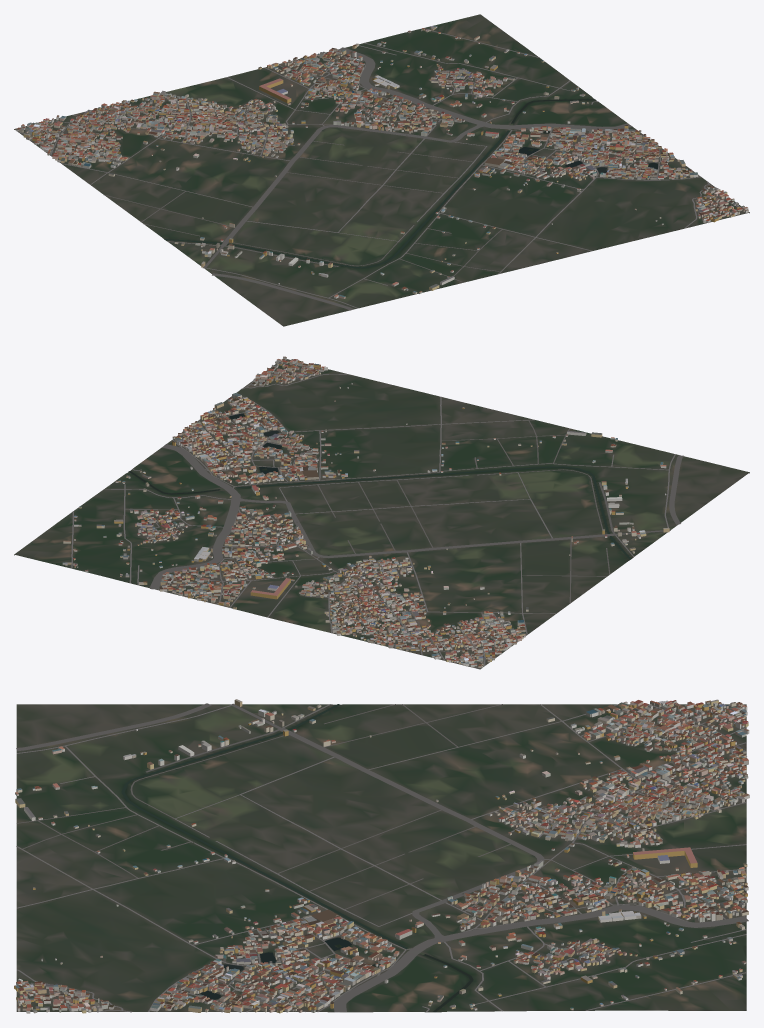
3 views of the same model, one above another, from view 1: azimuth 30°, elevation 25°; view 2: azimuth 150°, elevation 25°; view 3: azimuth 270°, elevation 25° (orthographic). The views are drawn at different scales.
Visible parts, largest first — view 1: ground, buildings, roads, water; view 2: ground, buildings, roads, water; view 3: ground, buildings, roads, water.
Part boxes in pixels (box(x1,y1,x2,y2)): ground: box(14, 14, 749, 326); buildings: box(16, 25, 748, 298); roads: box(16, 28, 729, 310); water: box(164, 99, 658, 268); ground: box(14, 359, 749, 669); buildings: box(62, 356, 669, 667); roads: box(71, 373, 683, 668); water: box(128, 413, 631, 559); ground: box(16, 704, 746, 1012); buildings: box(14, 699, 749, 1013); roads: box(16, 703, 748, 1012); water: box(121, 704, 473, 1012).
Size of the model in its own units: 1411 by 21.51 by 1413.
